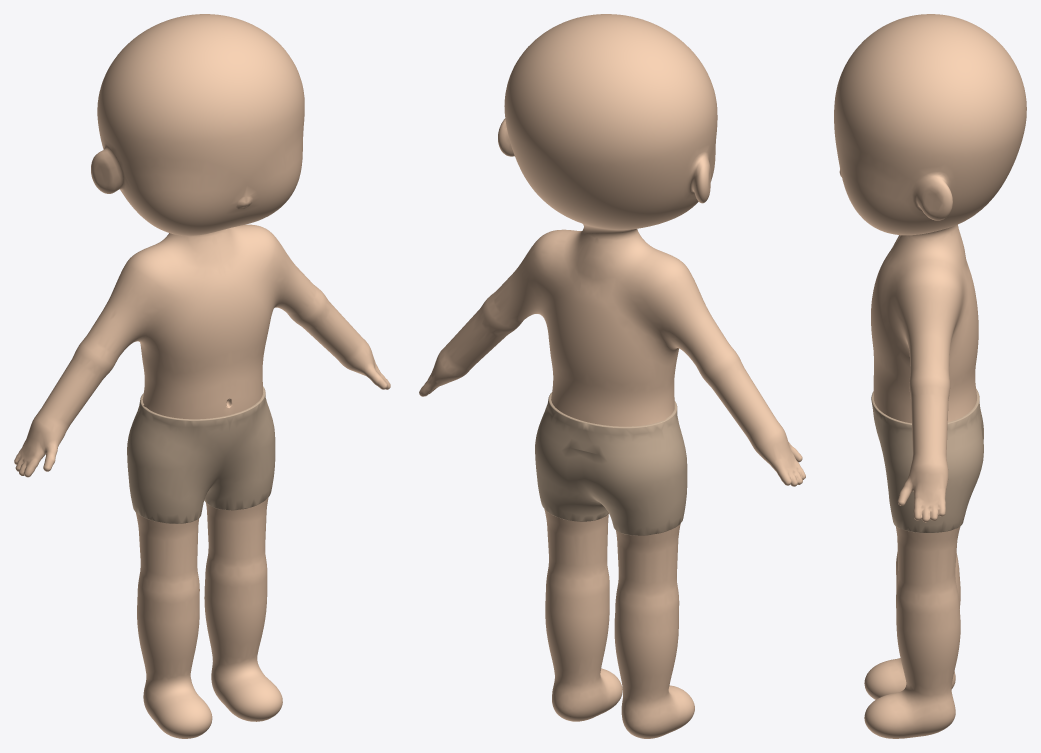
Rendered from male_medium.fbx.
3 views of the same model, side by side, from view 1: azimuth 30°, elevation 25°; view 2: azimuth 150°, elevation 25°; view 3: azimuth 270°, elevation 25° (orthographic). The views are drawn at different scales.
Visible parts, largest first — view 1: Body, Pants; view 2: Body, Pants; view 3: Body, Pants.
Boxes of the visible parts, <box> form: Body: <box>14,14,390,738</box>; Pants: <box>127,386,275,523</box>; Body: <box>419,14,805,738</box>; Pants: <box>535,392,687,535</box>; Body: <box>834,14,1026,738</box>; Pants: <box>871,388,983,532</box>.
Bounding box in the file's own units: 93.56 × 167 × 42.24.
